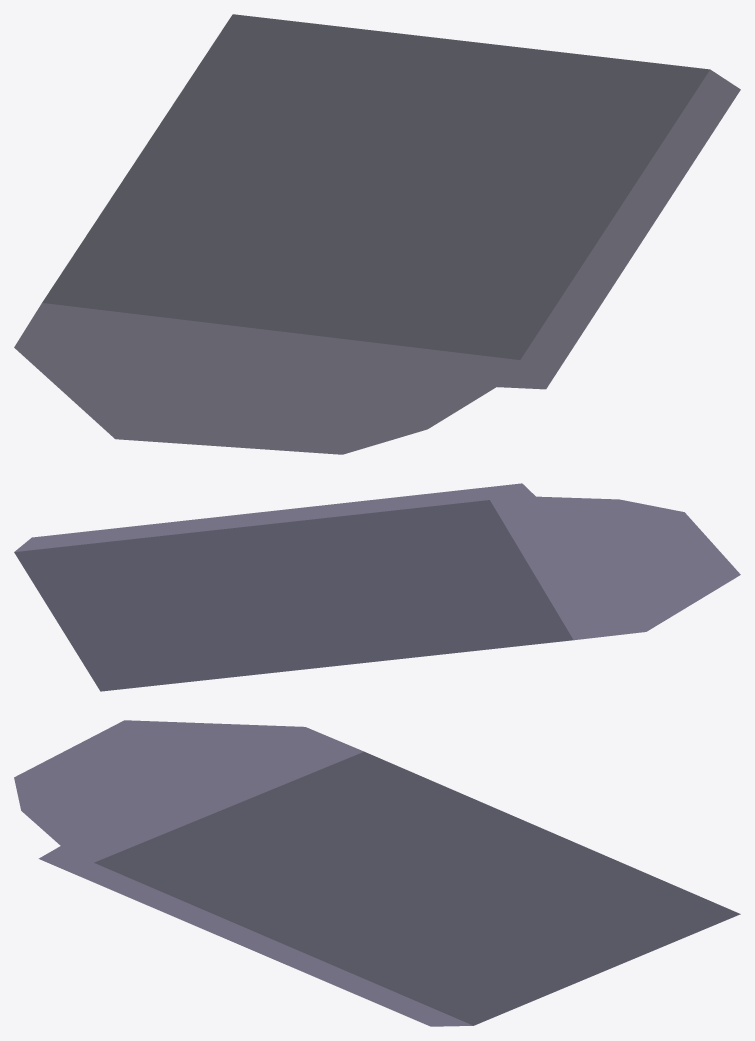
3 renders of one model, top to bottom at view 1: azimuth 30°, elevation 25°; view 2: azimuth 150°, elevation 25°; view 3: azimuth 270°, elevation 25°, orthographic. The views are drawn at different scales.
Visible parts, largest first — view 1: Joint_0_Object_0; view 2: Joint_0_Object_0; view 3: Joint_0_Object_0.
Part boxes in pixels (left/top/right/bottom): Joint_0_Object_0: left=14, top=14, right=740, bottom=454; Joint_0_Object_0: left=14, top=483, right=740, bottom=691; Joint_0_Object_0: left=14, top=720, right=740, bottom=1026.
Size of the model in its own units: 164 by 0 by 165.
Materials: 1 (1 with a texture image).
